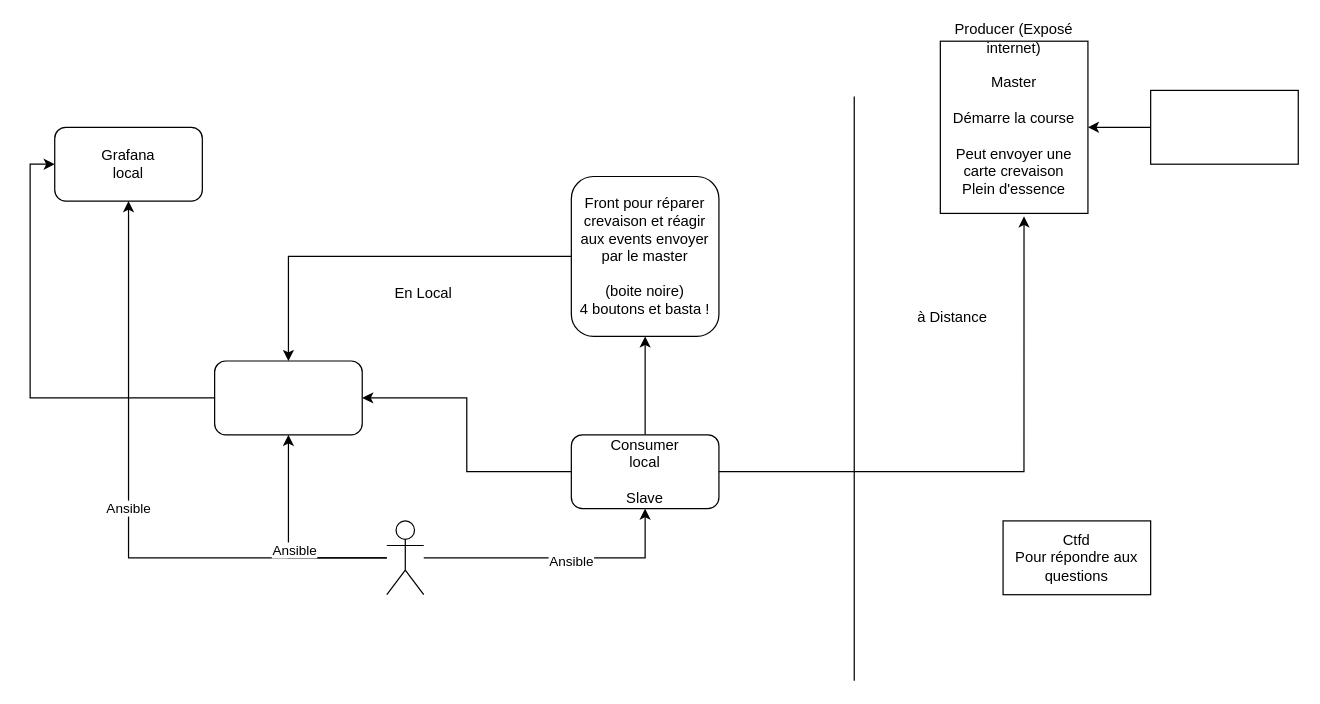
This 1320x704 diagram has some shape labels left out. Here are the shapes that lost their labels. From the top down, the centre of each, then its label:
At pixel 1223 126: "Un front pour le classement".
At pixel 287 397: "Otel Col local".
At pixel 405 557: "Actor".
